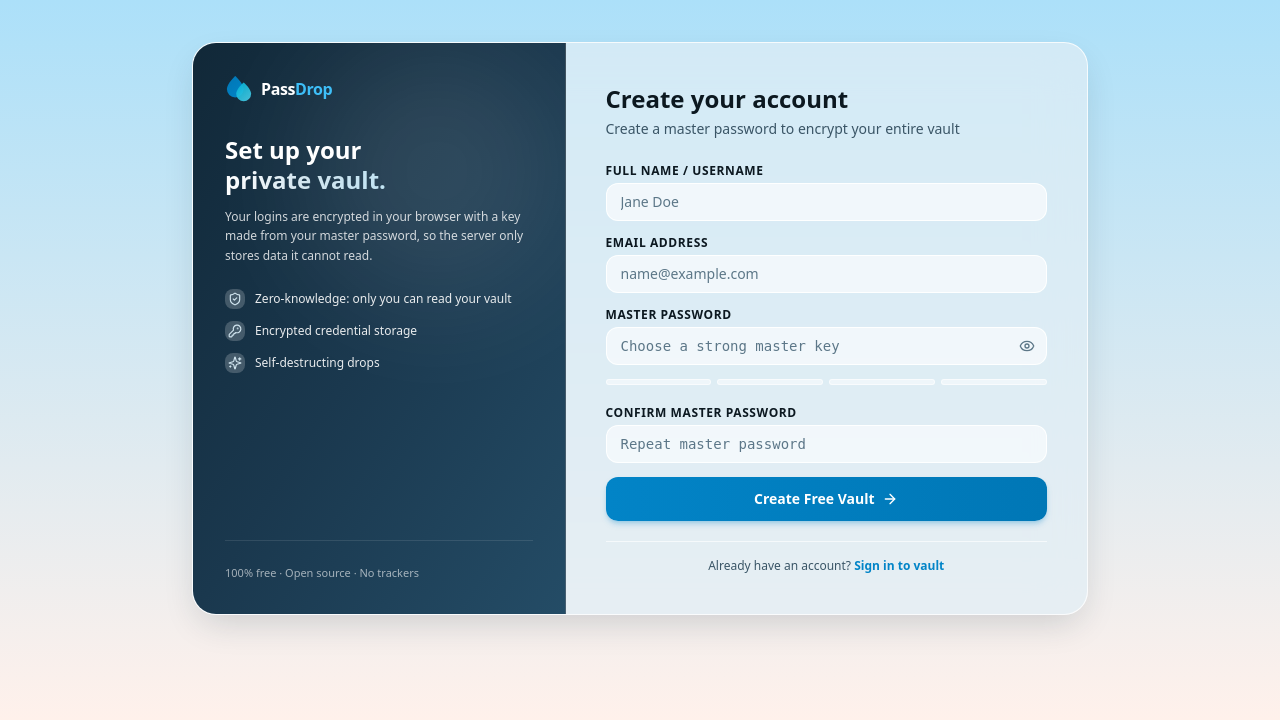
Test case: Signup › refuses a master password shorter than 12 characters without asking the server
The width and height of the screenshot is (1280, 720).
Type "Jane" into the field labelled "Full Name / Username". click: (826, 202)
box: [606,182,1047,220]
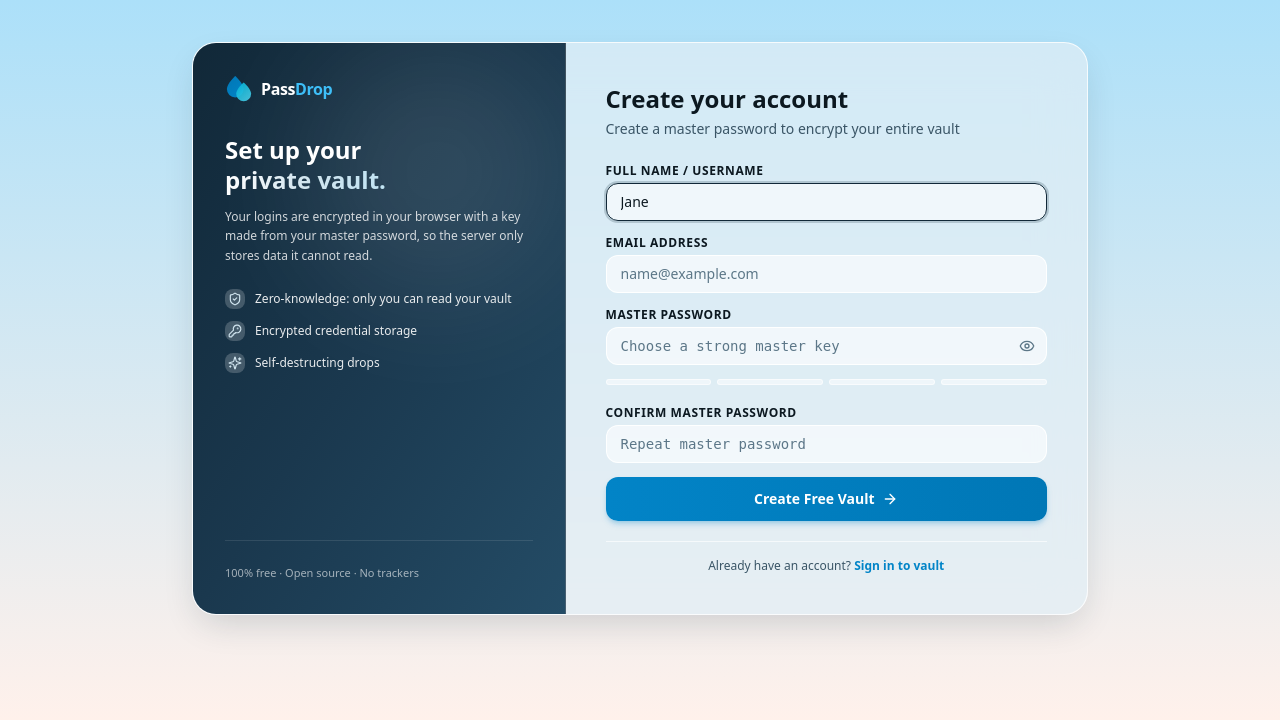
Type "jane@example.com" into the field labelled "Email address". click: (826, 274)
box: [606,254,1047,292]
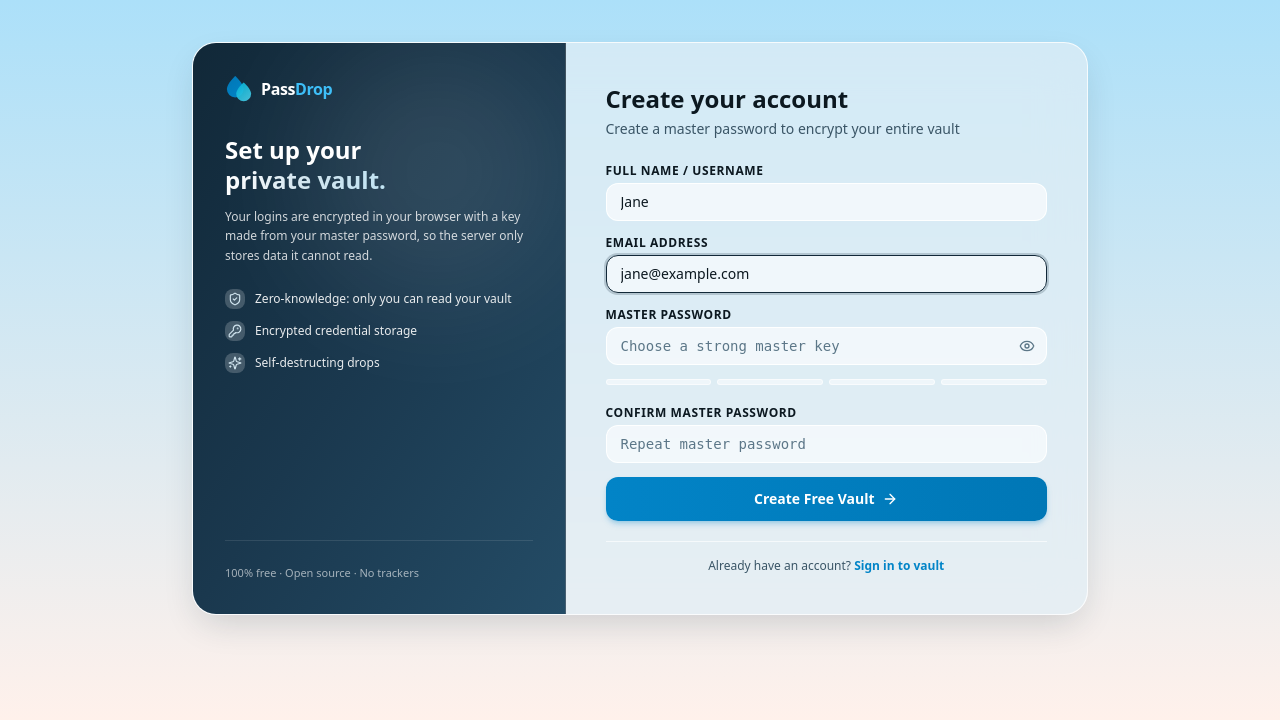
Type "short-pw-11" into the password field labelled "Master Password". click: (826, 346)
box: [606,326,1047,364]
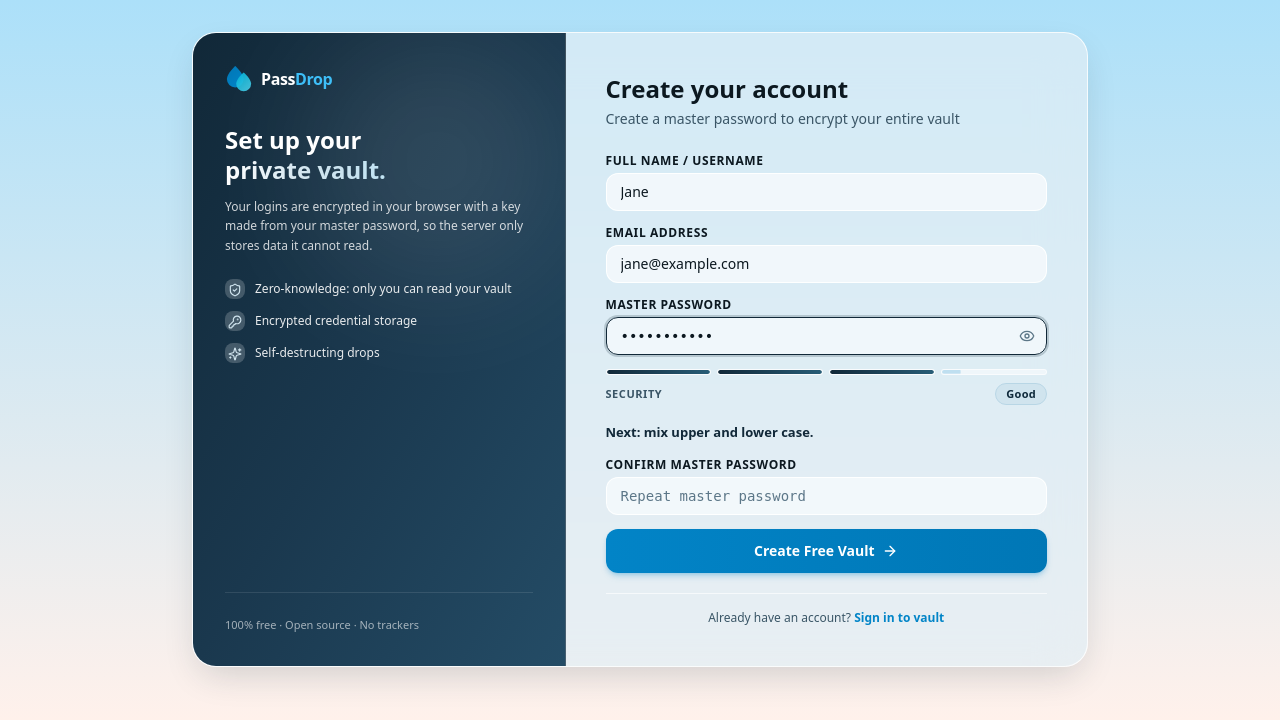
Type "short-pw-11" into the password field labelled "Confirm Master Password". click: (826, 496)
box: [606,476,1047,514]
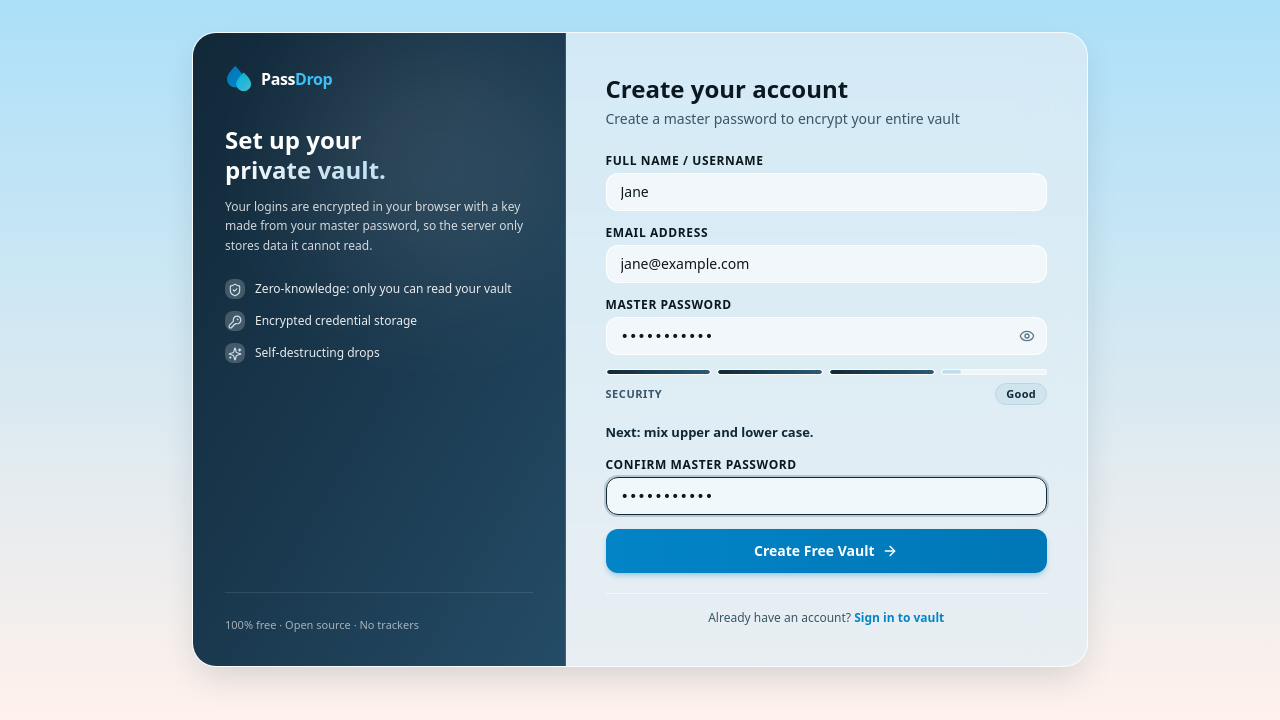
Click the button "Create Free Vault". click: (826, 550)
box: [606,528,1047,572]
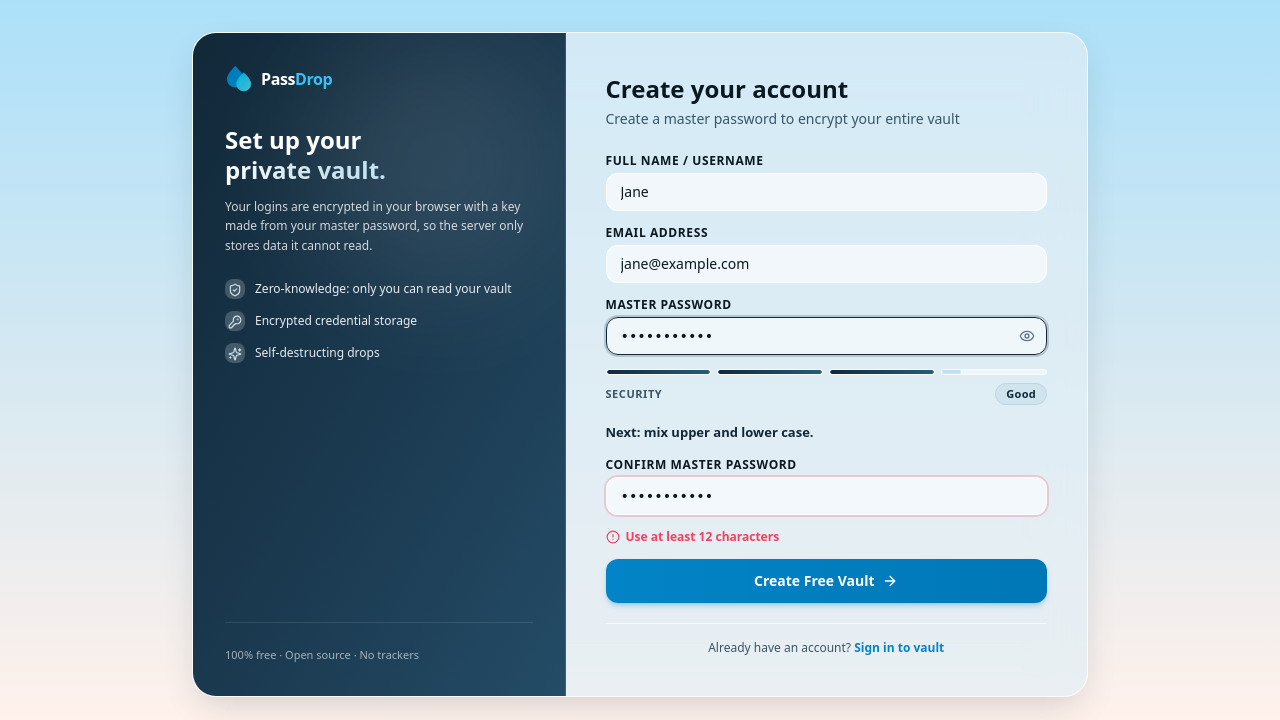
Check: the button named "Show passwords" is shown, box [1019,317,1047,355]
Check: the text "Use at least 12 characters" is shown, box [626,528,779,544]
